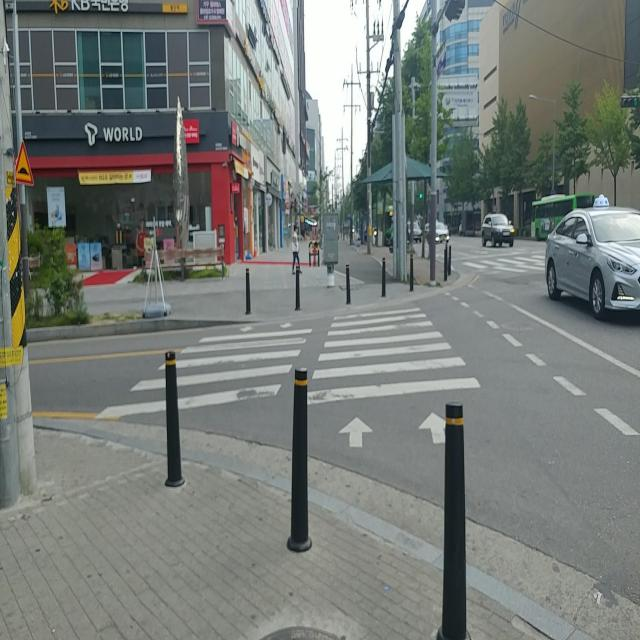횡단보도: (93, 305, 482, 449), (457, 252, 545, 276)
